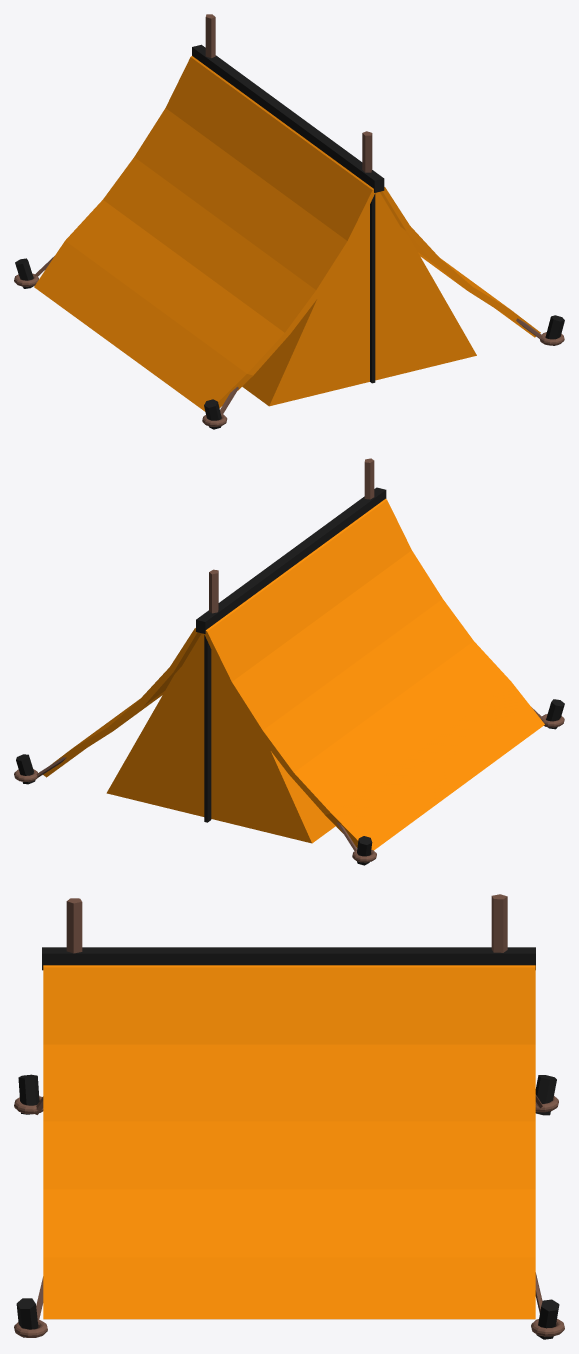
File: TentModelo.fbx
3 renders of one model, top to bottom at view 1: azimuth 30°, elevation 25°; view 2: azimuth 150°, elevation 25°; view 3: azimuth 270°, elevation 25°, orthographic. The views are drawn at different scales.
Parts seen in each view (by area): view 1: group263612592, group912174311, group535548886.002, group1997237509, group535548886.001; view 2: group263612592, group912174311, group535548886.002, group1997237509, group535548886; view 3: group1997237509, group535548886.002, group1725671573, group1139254300, group637283230, group1249314938, group1241182310, group962132412.
Part boxes in pixels (x1,y1,x2,y2): group263612592: (34,56,374,411); group912174311: (242,192,476,406); group535548886.002: (192,44,384,192); group1997237509: (380,187,540,337); group535548886.001: (370,193,375,383); group263612592: (204,498,544,850); group912174311: (106,633,335,843); group535548886.002: (196,487,386,633); group1997237509: (43,628,201,777); group535548886: (204,635,211,822); group1997237509: (43,965,535,1319); group535548886.002: (42,947,535,970); group1725671573: (491,894,507,952); group1139254300: (66,898,82,953); group637283230: (18,1074,39,1114); group1249314938: (16,1298,38,1337); group1241182310: (535,1075,556,1115); group962132412: (536,1299,559,1339).
Size of the model in its own units: 222 by 144 by 216.
